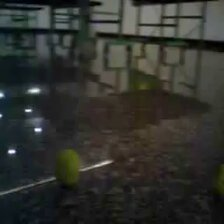tennis: (51, 149, 83, 186)
